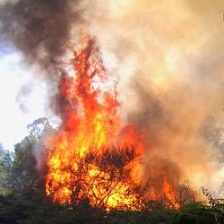fire: (42, 45, 181, 211)
smoke: (146, 1, 224, 186), (11, 1, 113, 69)
